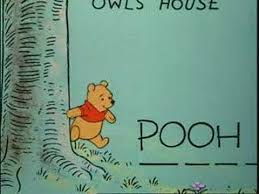Winnie: (74, 77, 119, 128)
